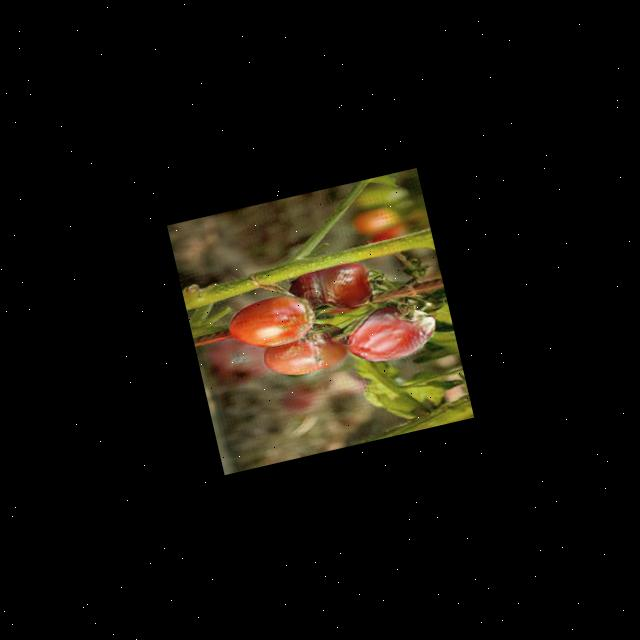tomato: (340, 296, 438, 368), (224, 288, 318, 357), (256, 317, 350, 385)
